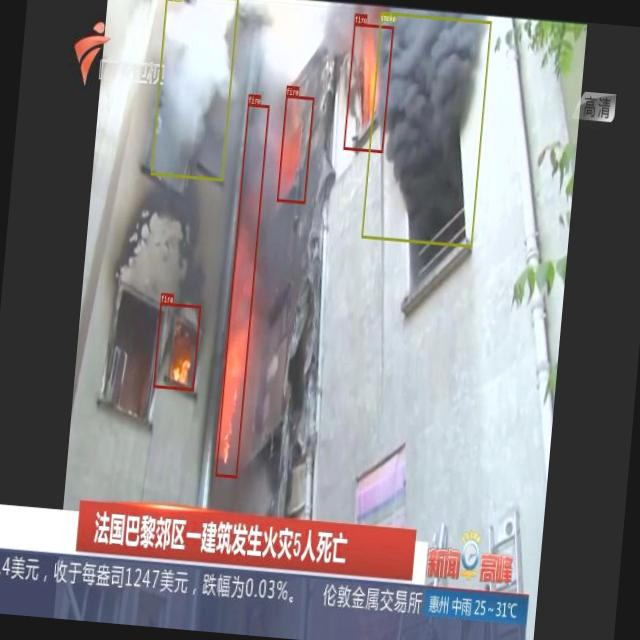fire: (214, 103, 270, 477), (342, 22, 393, 152), (152, 302, 200, 389), (276, 94, 314, 203)
smoke: (360, 10, 490, 246), (149, 0, 238, 181)
